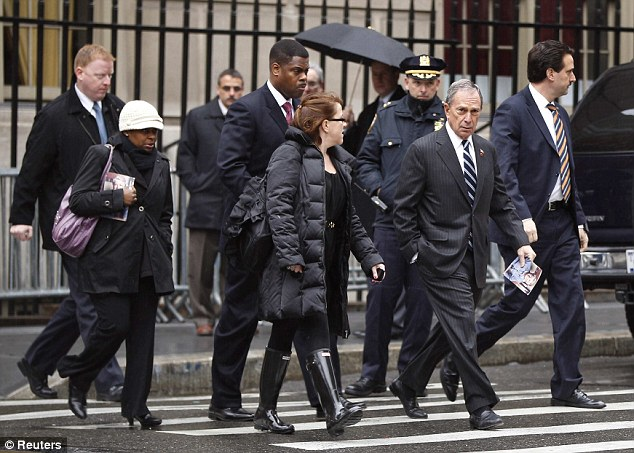person: (393, 78, 538, 431), (209, 37, 324, 427), (12, 41, 130, 402), (262, 92, 383, 438), (63, 97, 175, 432), (490, 39, 590, 410), (363, 54, 447, 396), (176, 68, 250, 336)
